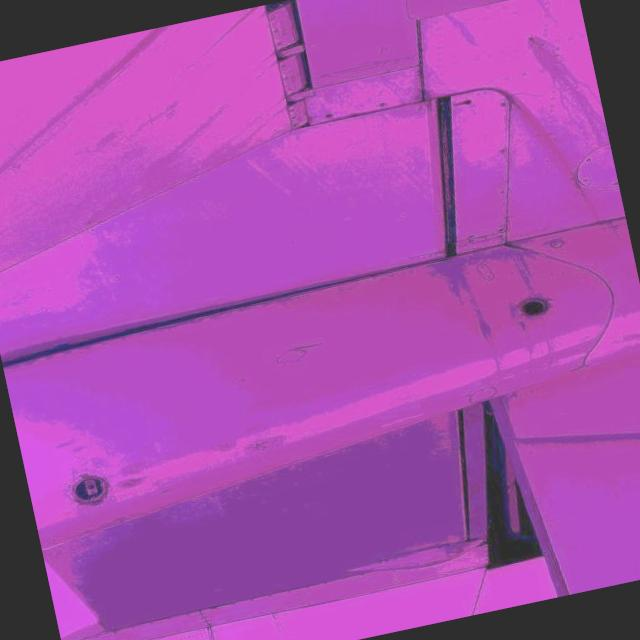crack: (286, 336, 336, 358)
